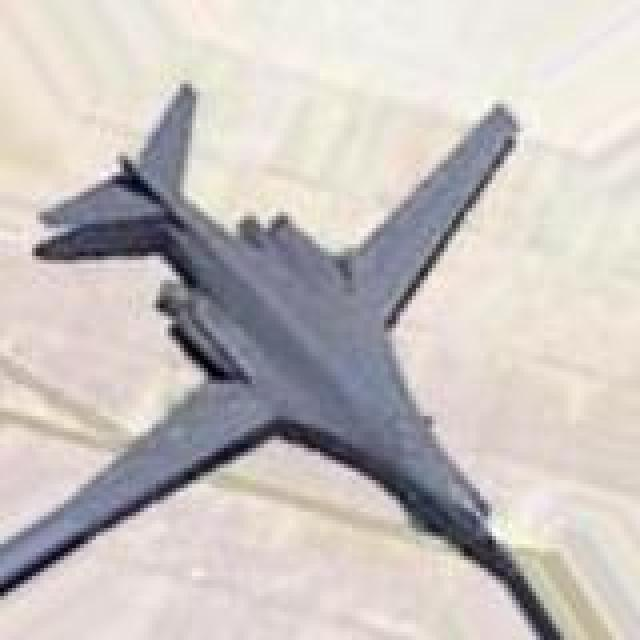B-1_TopDown: (0, 76, 572, 636)
